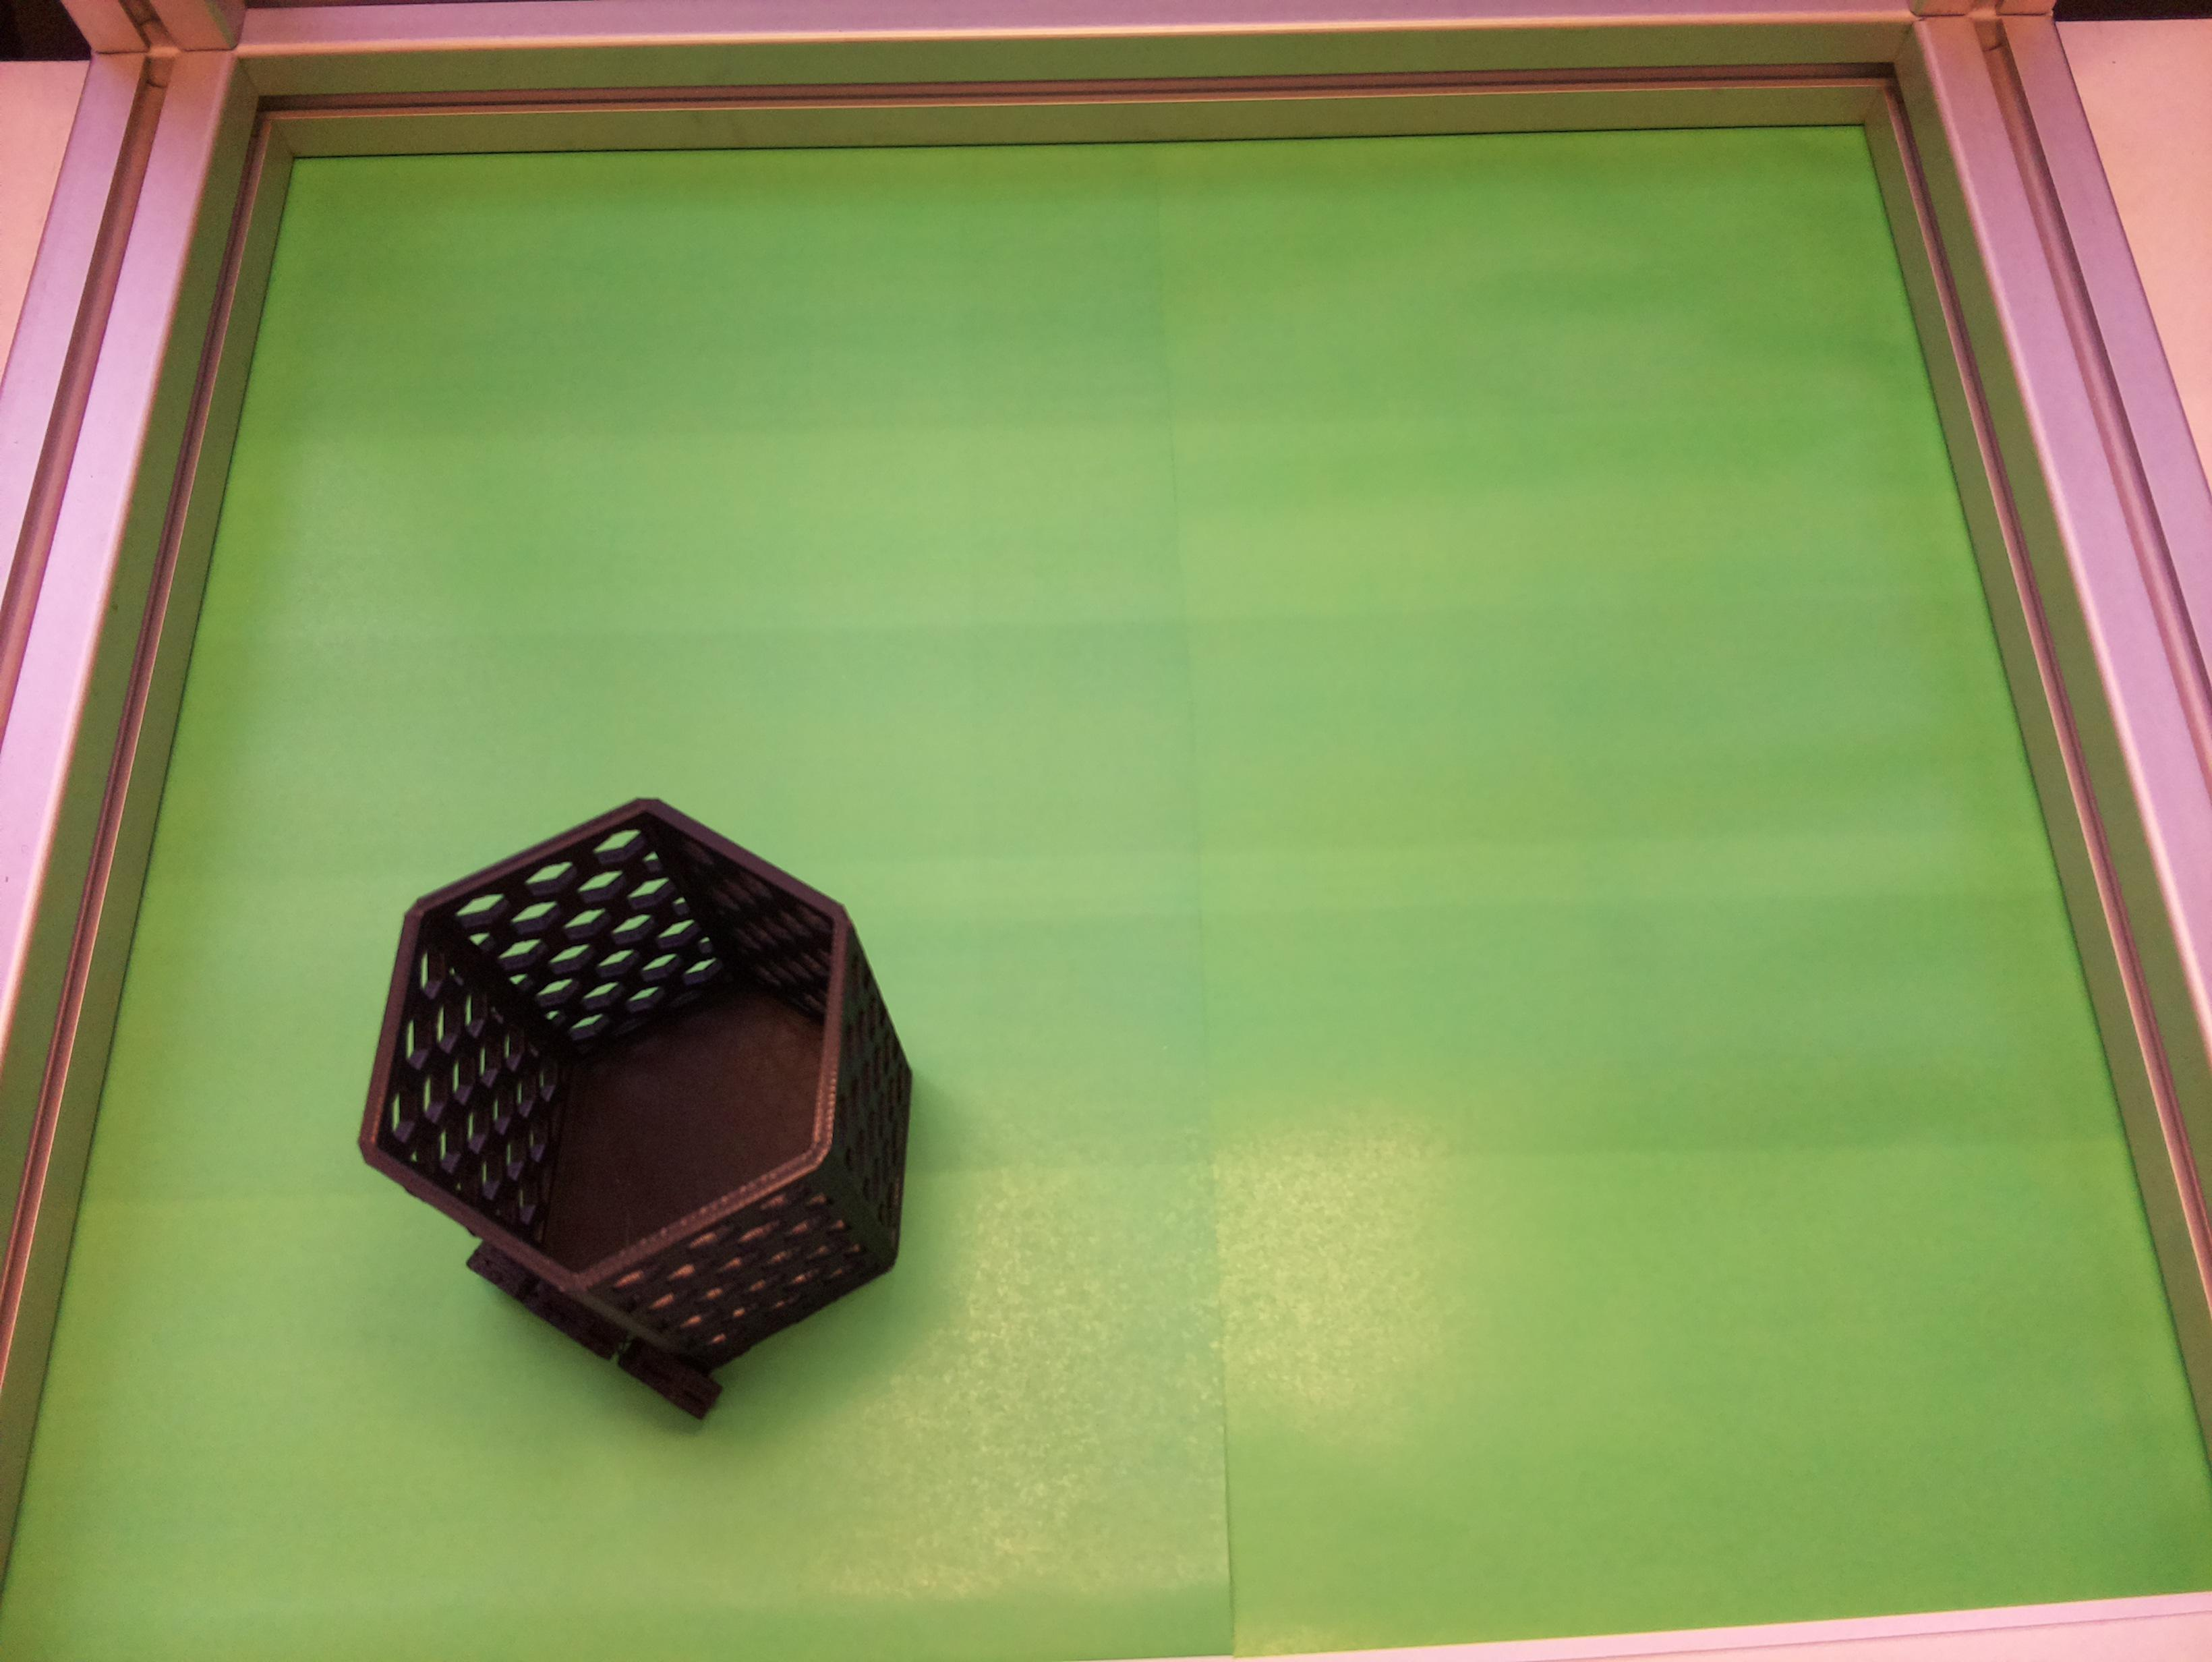cup_holder: (264, 707, 1042, 1463)
